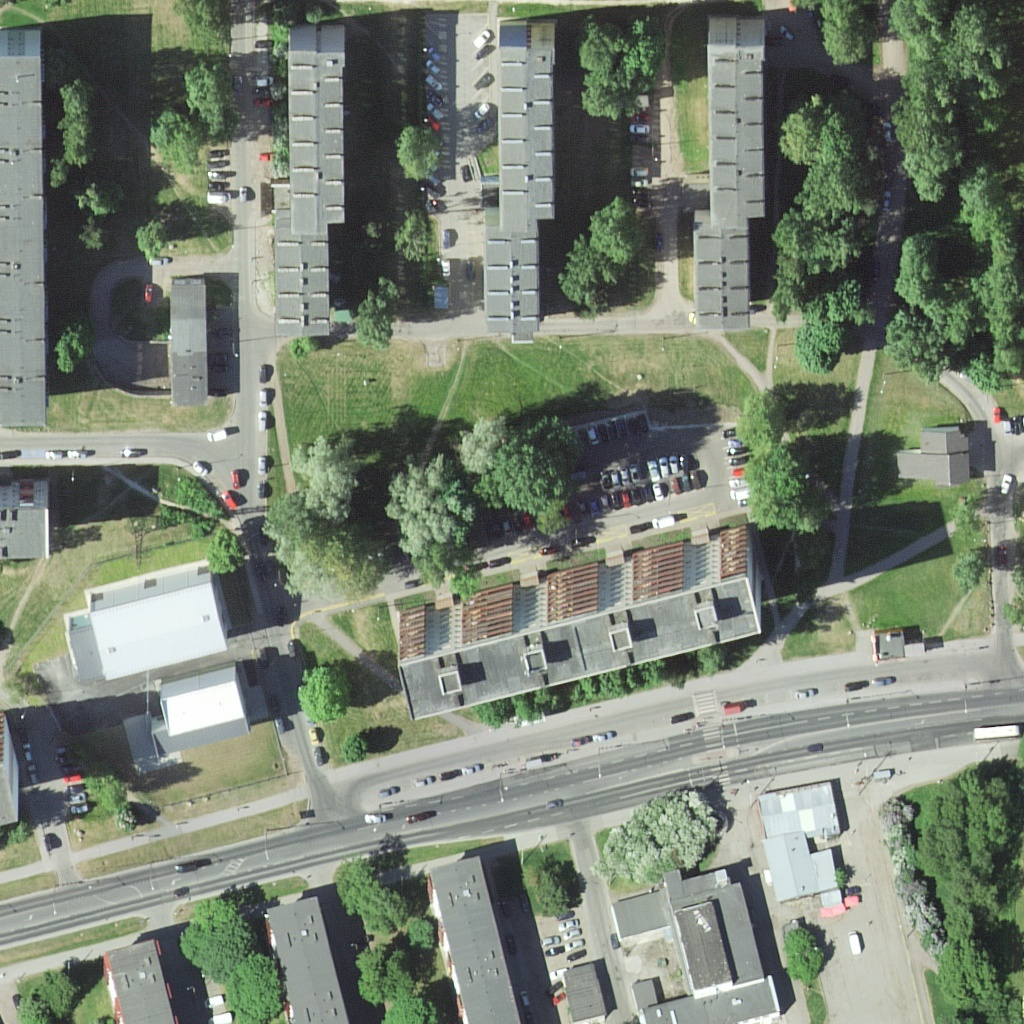building: (391, 523, 760, 721), (54, 565, 232, 689), (664, 863, 788, 1023), (1, 26, 48, 429), (432, 855, 517, 1024), (704, 19, 769, 221), (494, 22, 558, 223), (284, 24, 344, 226), (264, 895, 352, 1024), (756, 783, 844, 901), (145, 670, 251, 752), (271, 230, 337, 342), (487, 216, 548, 333), (691, 229, 752, 332), (164, 277, 211, 410), (107, 937, 173, 1024)
